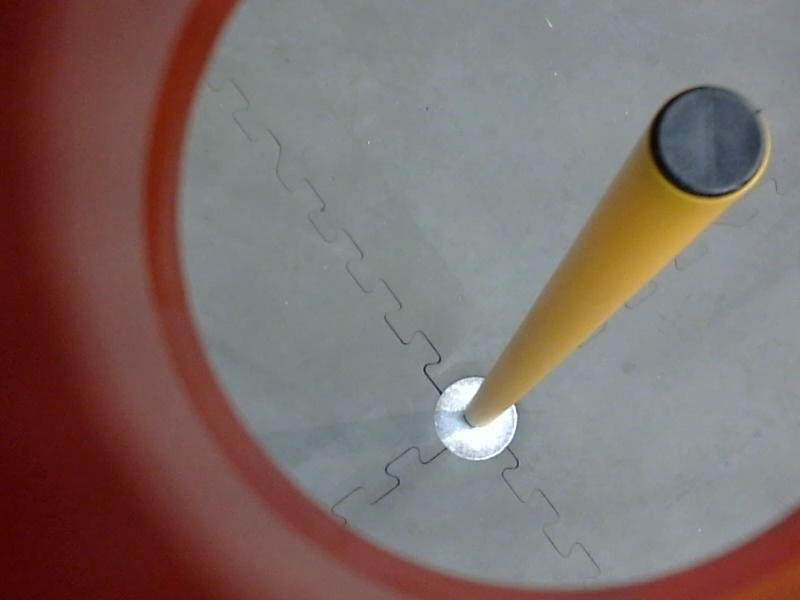tip: (641, 76, 785, 208)
